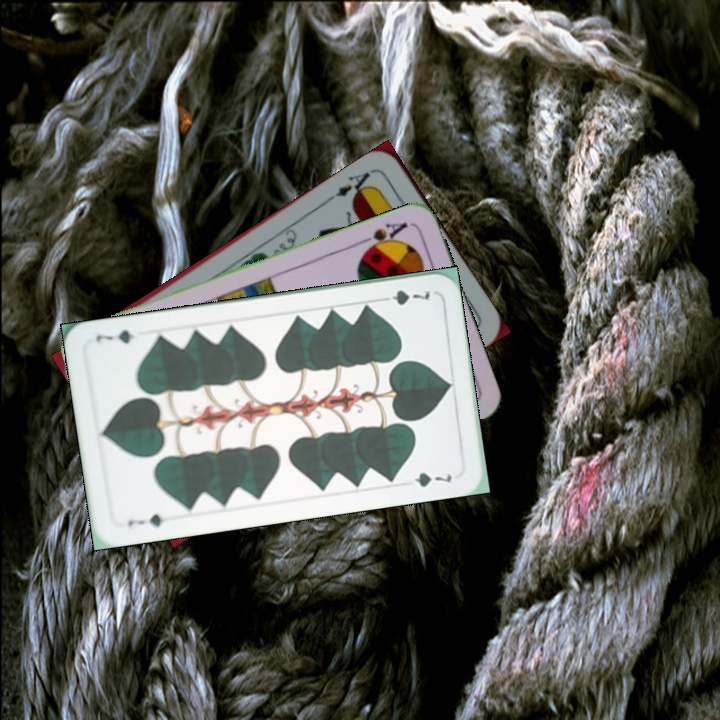EA: (324, 165, 378, 203)
G7: (375, 285, 433, 308), (123, 510, 167, 530)
SA: (355, 218, 410, 256)
